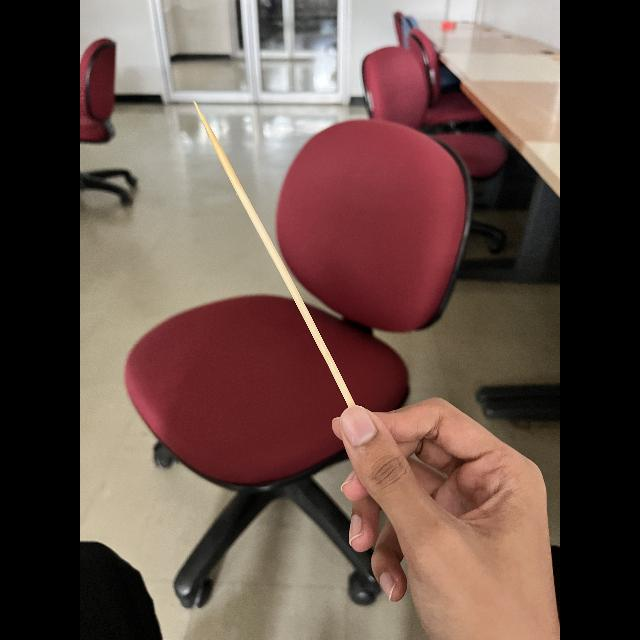stick: (192, 106, 356, 407)
